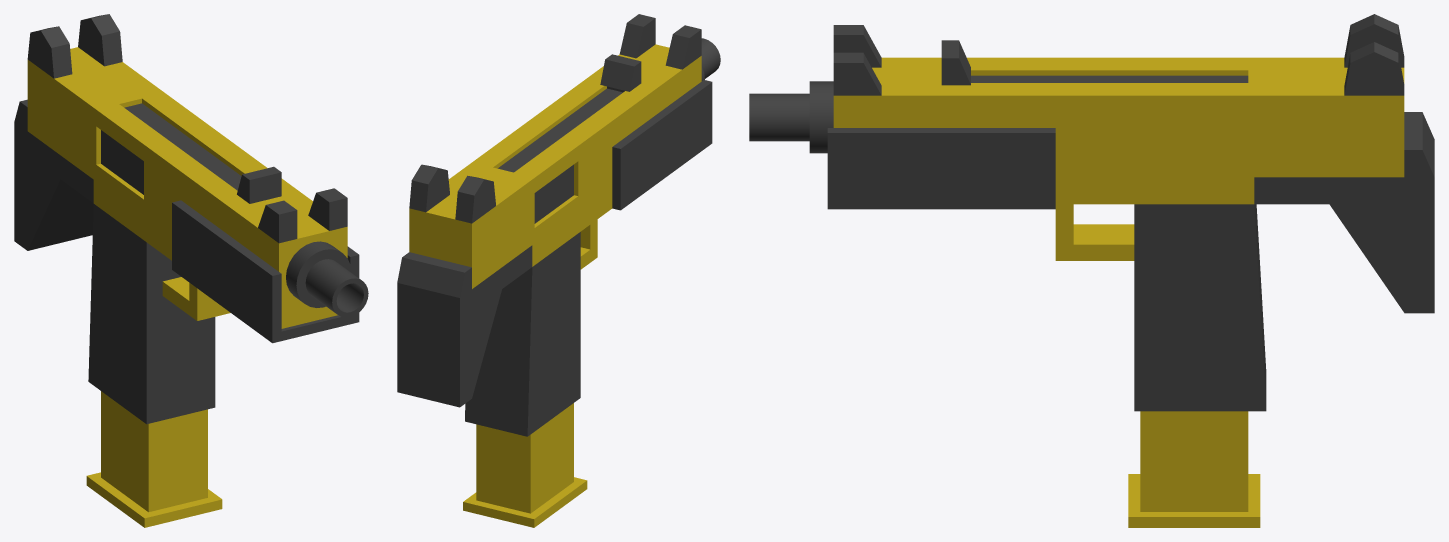
The model's file is uziGoldLong.fbx.
3 views of the same model, side by side, from view 1: azimuth 30°, elevation 25°; view 2: azimuth 150°, elevation 25°; view 3: azimuth 270°, elevation 25° (orthographic). The views are drawn at different scales.
Visible parts, largest first — view 1: Mesh4_Group5 Group1 Model, Mesh2_Group3 Group1 Model, Mesh3_Group4 Group1 Model, Mesh1_Group2 Group1 Model; view 2: Mesh4_Group5 Group1 Model, Mesh3_Group4 Group1 Model, Mesh2_Group3 Group1 Model, Mesh1_Group2 Group1 Model; view 3: Mesh4_Group5 Group1 Model, Mesh3_Group4 Group1 Model, Mesh2_Group3 Group1 Model, Mesh1_Group2 Group1 Model.
Part boxes in pixels (<box>): Mesh4_Group5 Group1 Model: <box>27,14,368,424</box>; Mesh2_Group3 Group1 Model: <box>86,391,222,527</box>; Mesh3_Group4 Group1 Model: <box>14,99,93,250</box>; Mesh1_Group2 Group1 Model: <box>237,166,281,203</box>; Mesh4_Group5 Group1 Model: <box>409,14,720,436</box>; Mesh3_Group4 Group1 Model: <box>397,245,532,407</box>; Mesh2_Group3 Group1 Model: <box>463,403,587,527</box>; Mesh1_Group2 Group1 Model: <box>600,54,641,92</box>; Mesh4_Group5 Group1 Model: <box>749,14,1404,411</box>; Mesh3_Group4 Group1 Model: <box>1254,112,1434,313</box>; Mesh2_Group3 Group1 Model: <box>1128,411,1260,527</box>; Mesh1_Group2 Group1 Model: <box>941,40,970,85</box>.
Size of the model in its own units: 0.0114 by 0.0522 by 0.0685.
